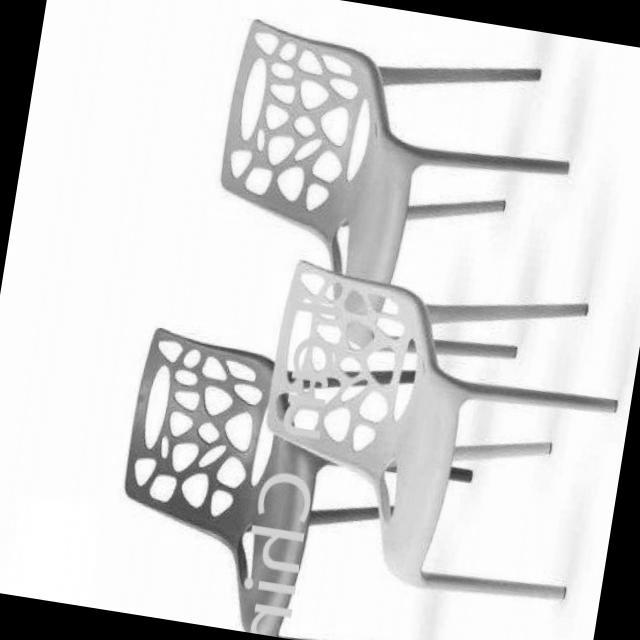chair: (238, 252, 634, 620), (192, 19, 593, 382), (100, 319, 465, 640)
